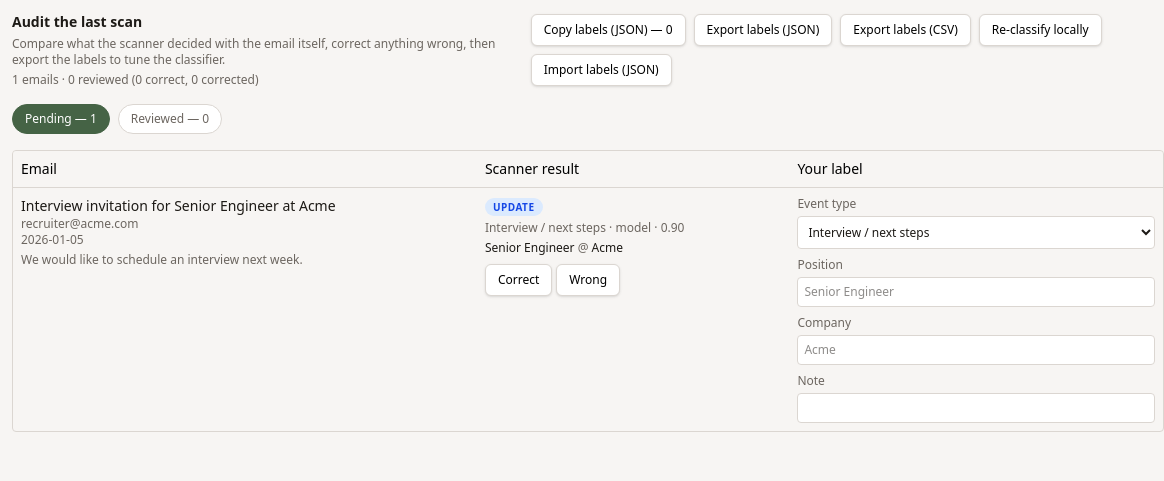
EmailScanAuditTable › reports the keyless baseline on demand
Click the button with test id "audit-local" at [1040, 30], box [979, 14, 1102, 46]
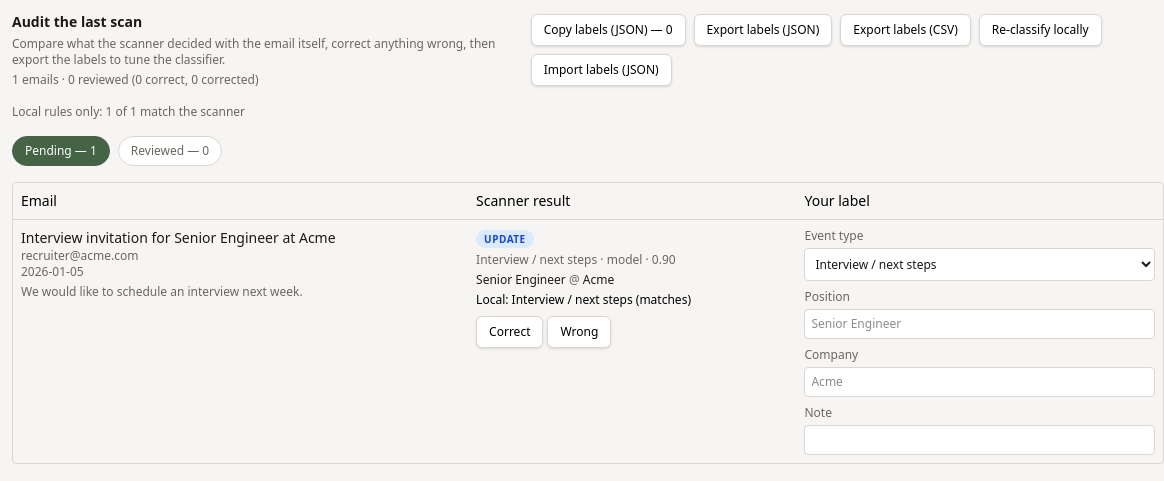
Check: the text with test id "audit-local-summary" shows "of 1 match", box [12, 103, 245, 120]
Check: the text "Local: Interview / next steps (matches)" is shown, box [476, 291, 691, 308]
